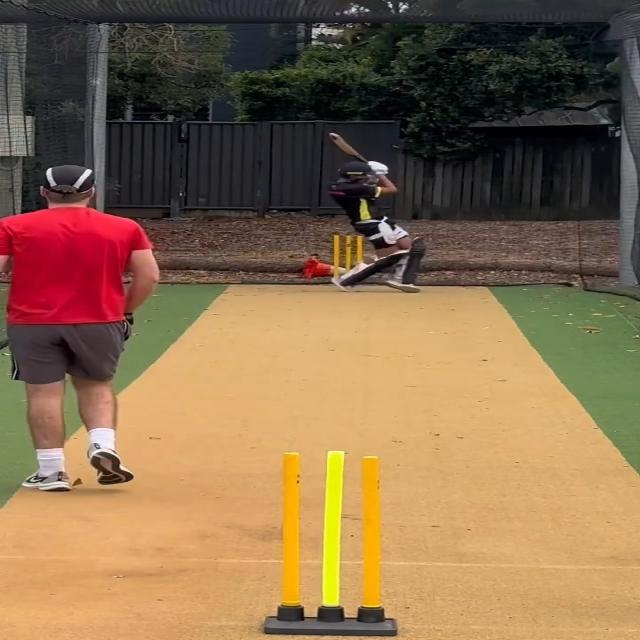stump: (261, 448, 400, 637), (328, 235, 366, 283)
